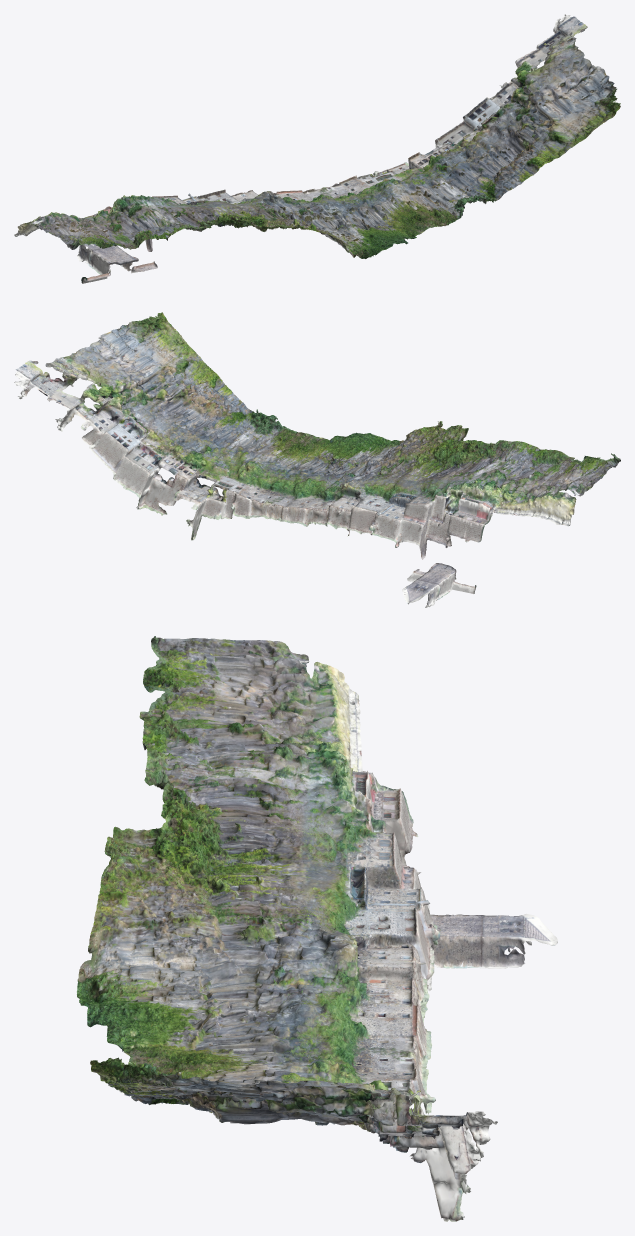
The model's file is castellfollit.glb.
The picture shows the model from 3 angles, top to bottom: view 1: azimuth 30°, elevation 25°; view 2: azimuth 150°, elevation 25°; view 3: azimuth 270°, elevation 25°; orthographic projection. The views are drawn at different scales.
Parts seen in each view (by area): view 1: Model.002_Model.011; view 2: Model.002_Model.011; view 3: Model.002_Model.011.
Boxes of the visible parts, left/top/right/bottom form: Model.002_Model.011: left=14, top=14, right=620, bottom=283; Model.002_Model.011: left=14, top=312, right=620, bottom=607; Model.002_Model.011: left=77, top=636, right=557, bottom=1221.
Size of the model in its own units: 50.84 by 12.32 by 19.97.
2 materials, 2 textured.
